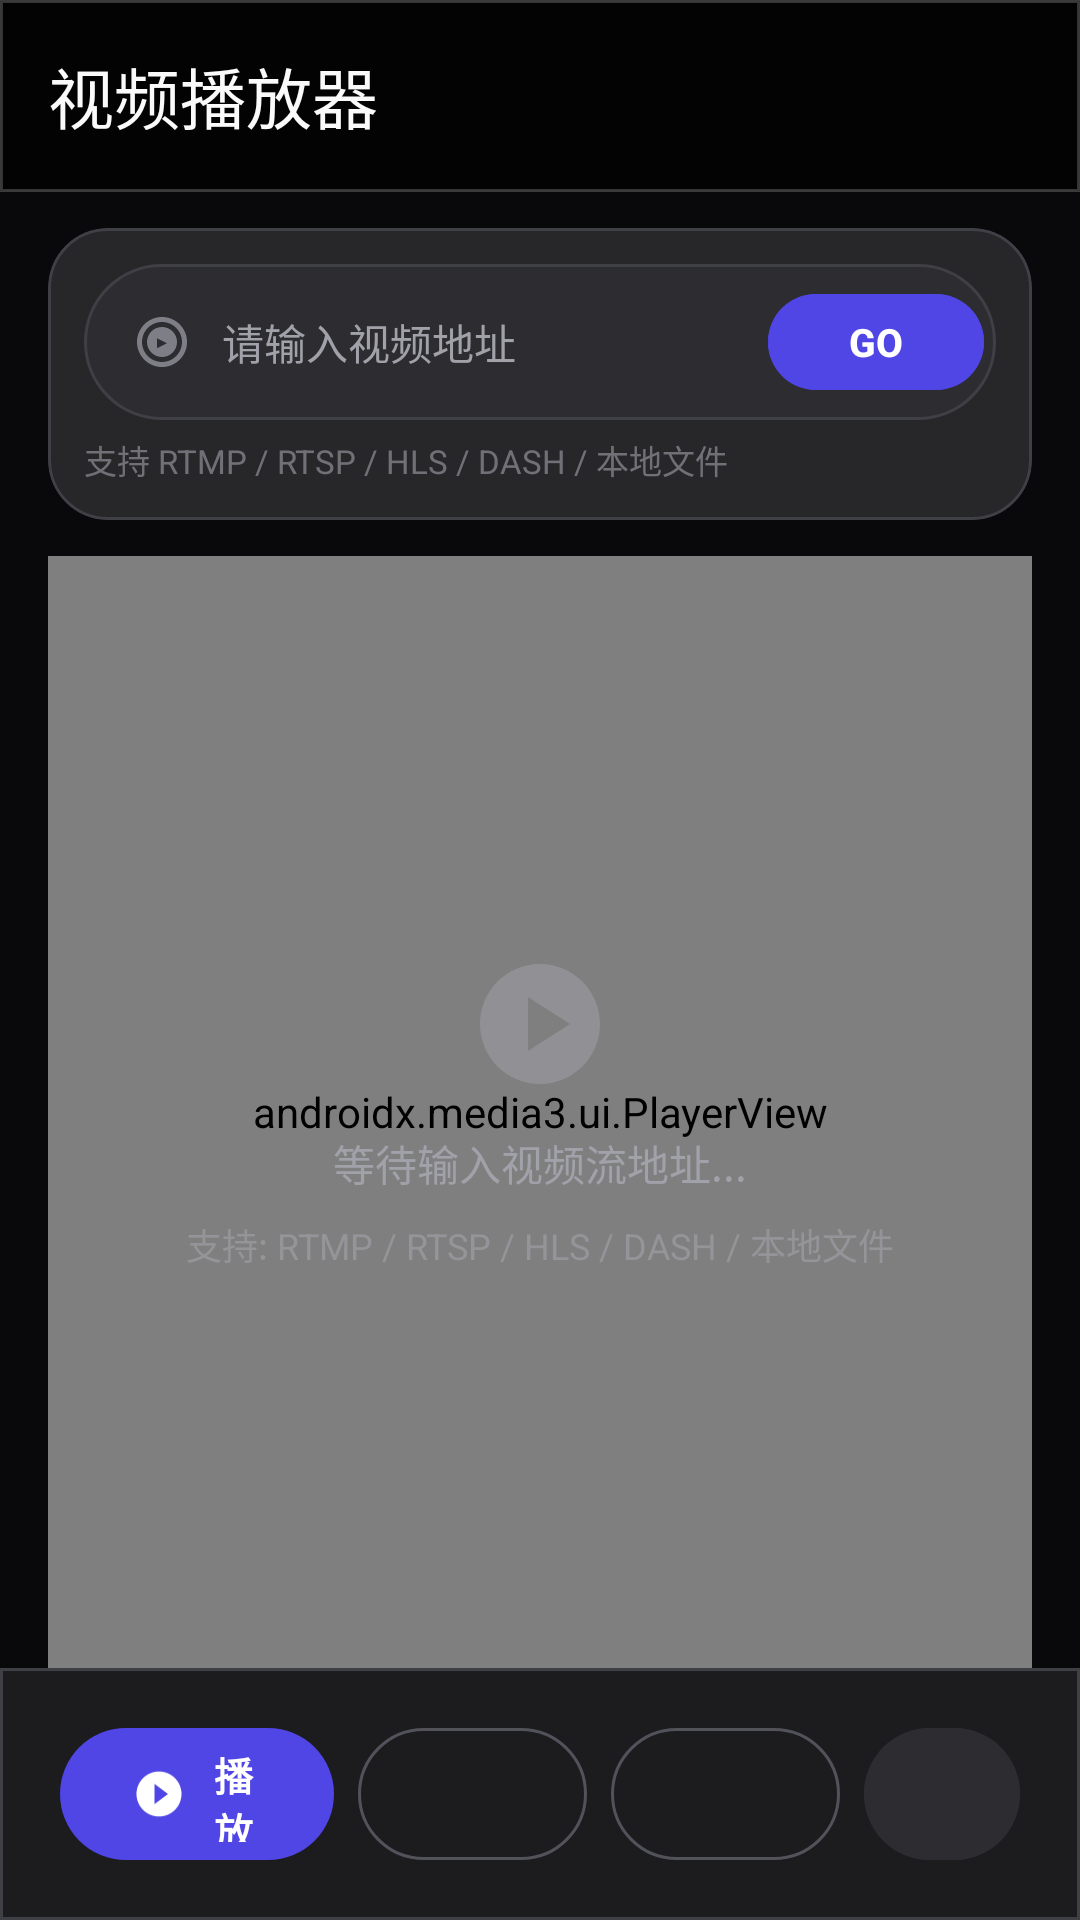

Named icons in this screenshot (1080 × 1920) and their centers, (x=x, y=y):
stream: (x=162, y=342)
